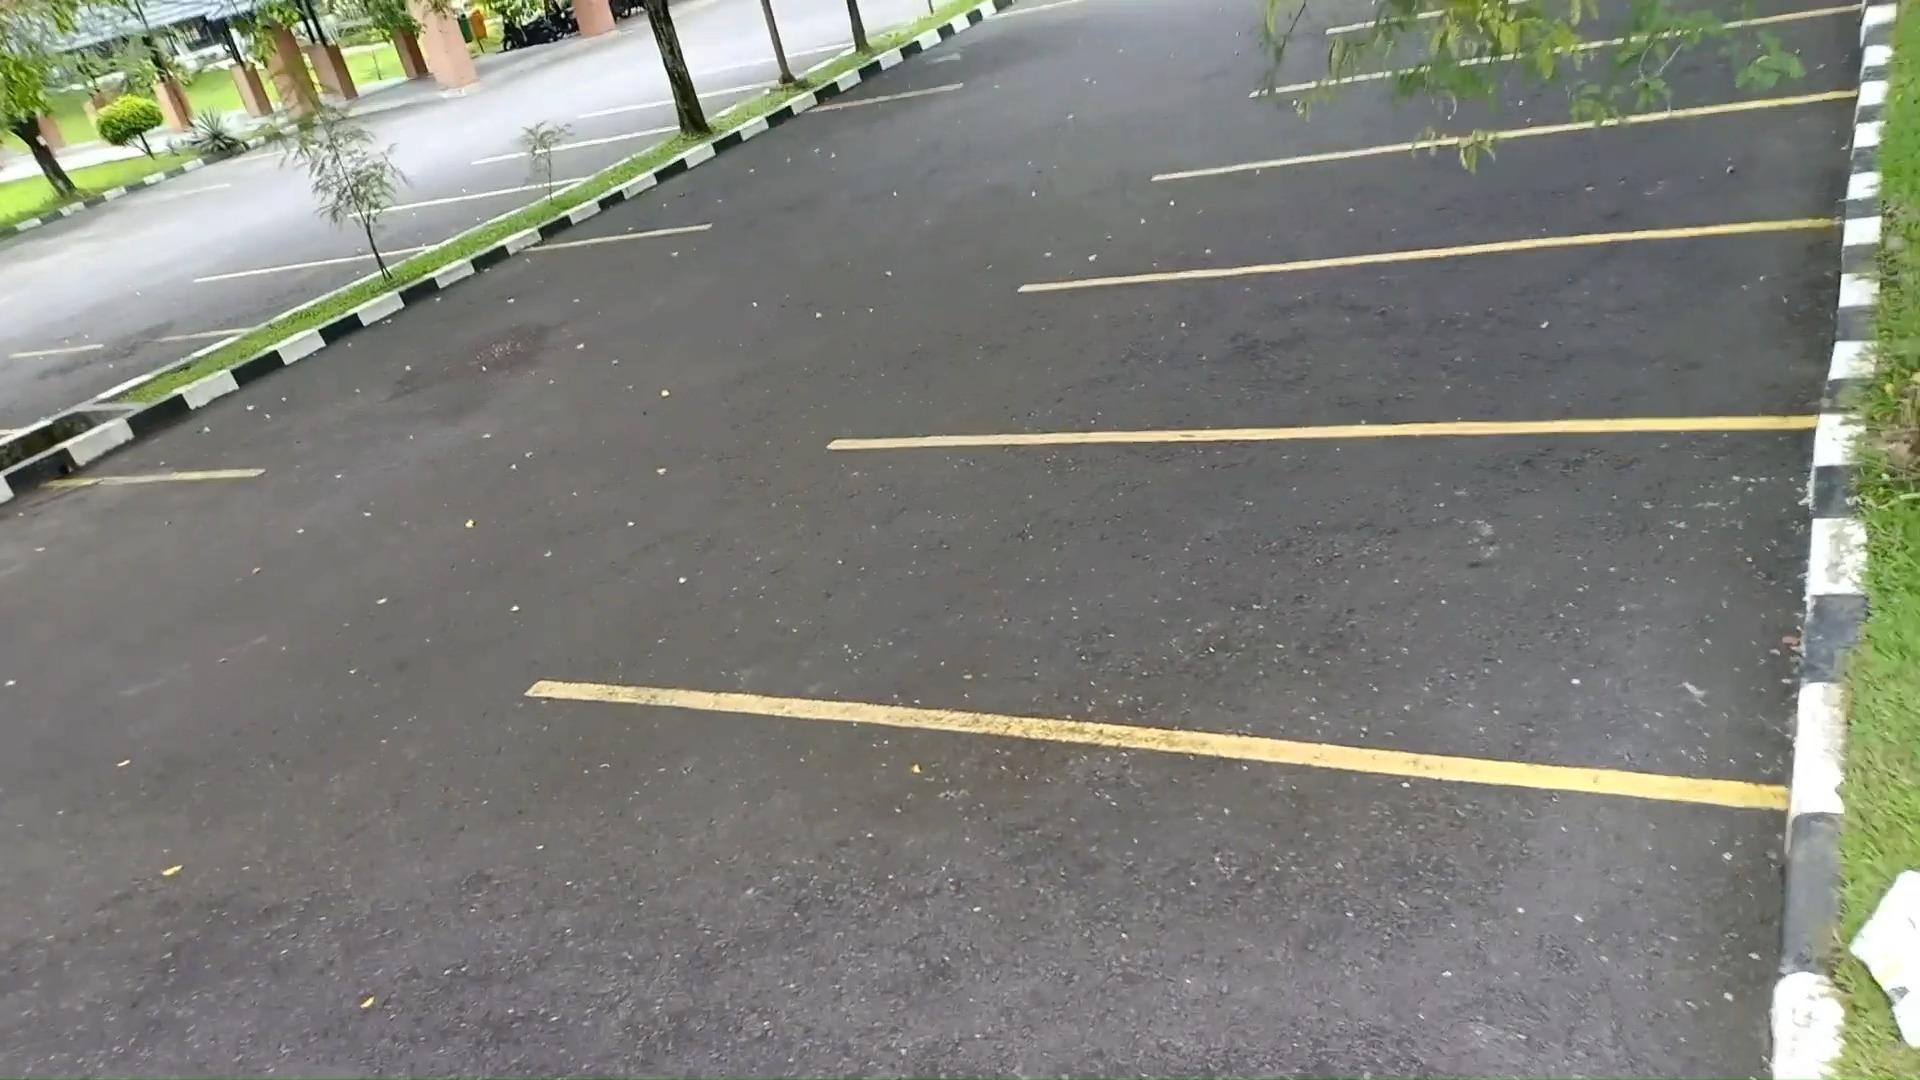empty: (865, 426, 1806, 755), (1062, 248, 1828, 426), (1312, 115, 1845, 248), (154, 260, 340, 330), (313, 193, 516, 256), (497, 142, 625, 184), (612, 96, 738, 135)
